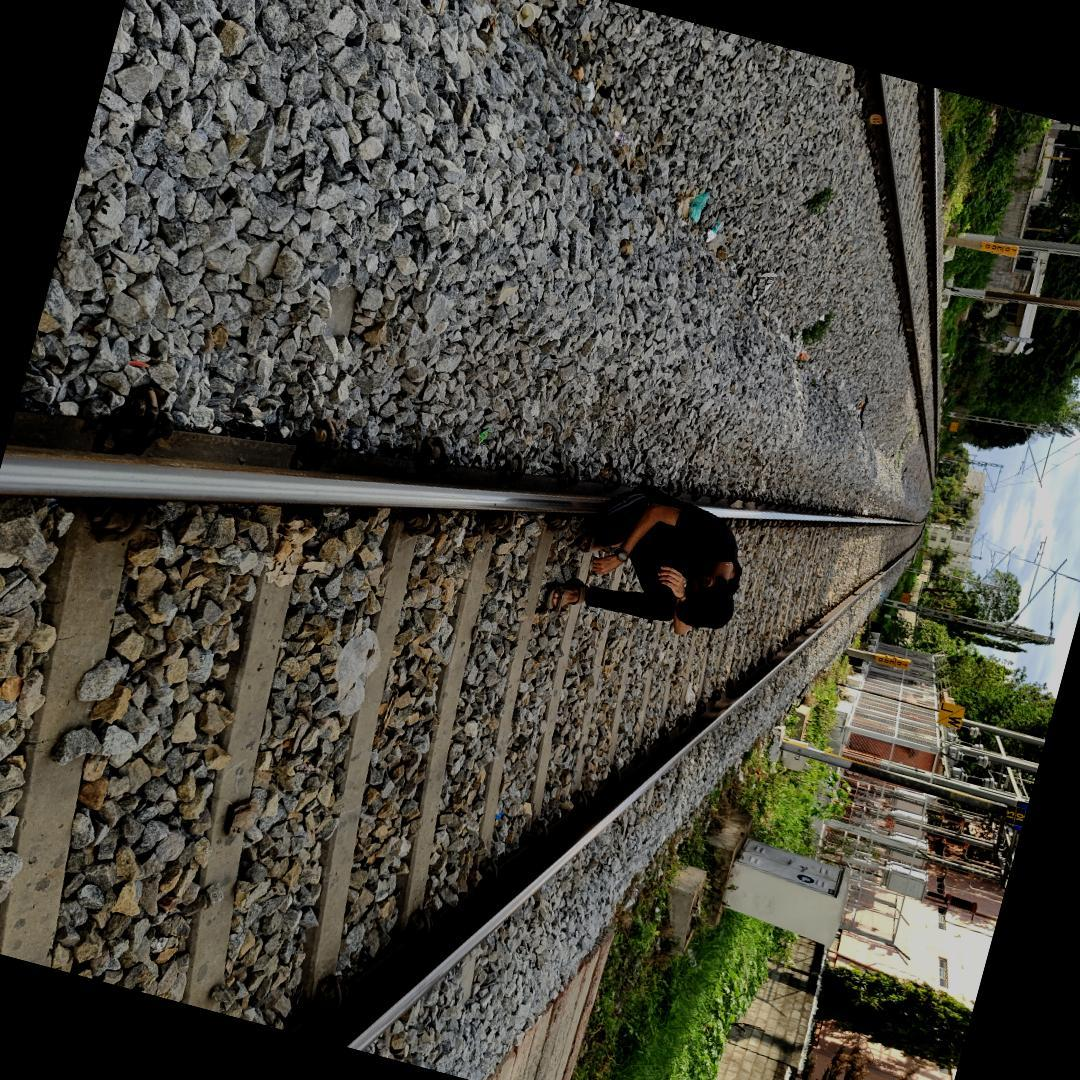sitting: (533, 469, 751, 639)
